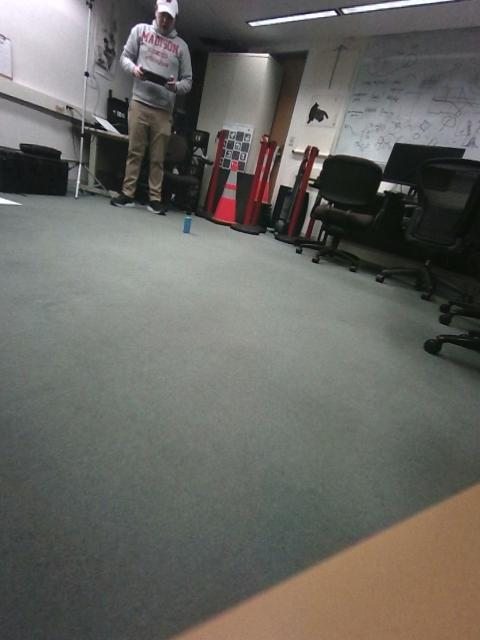block: (86, 284, 123, 352)
